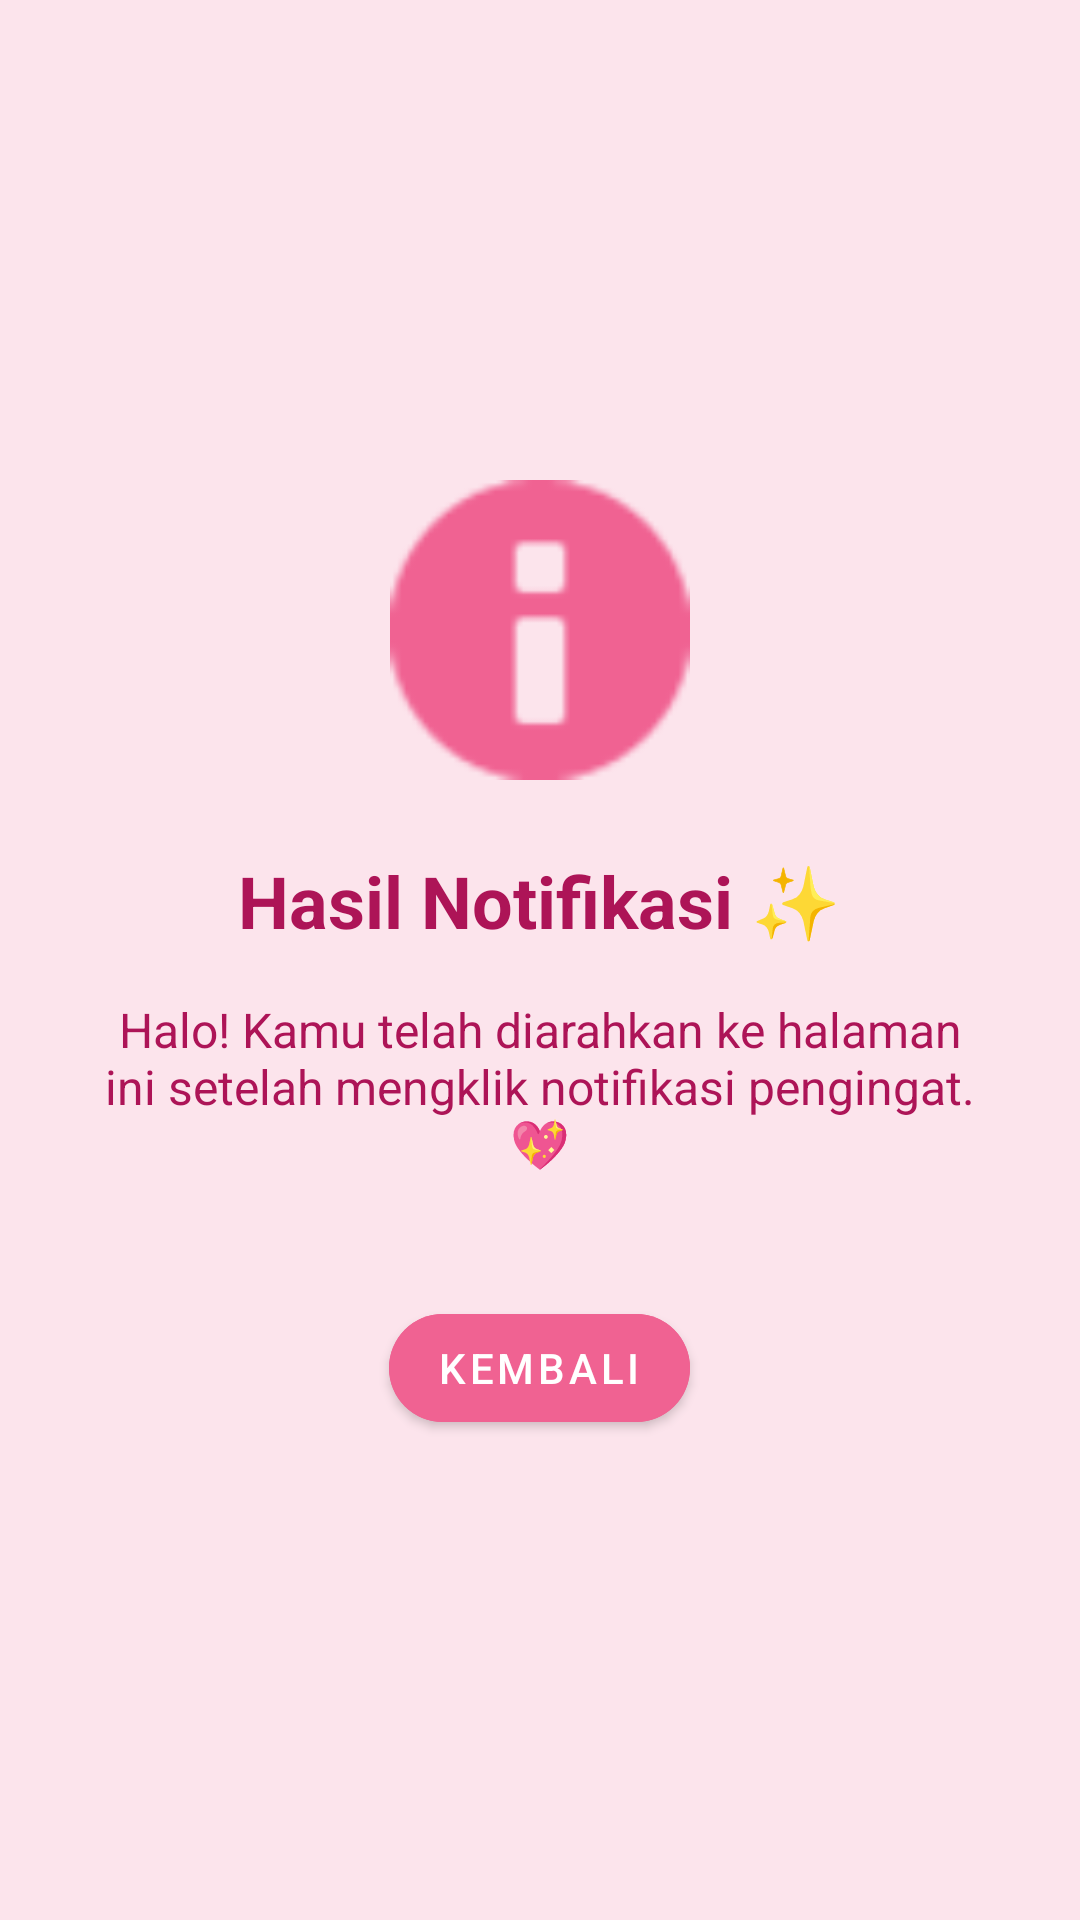

Where to tap for icons on this 1080px×1920px app screen, as point (x, y):
info: point (540, 630)
